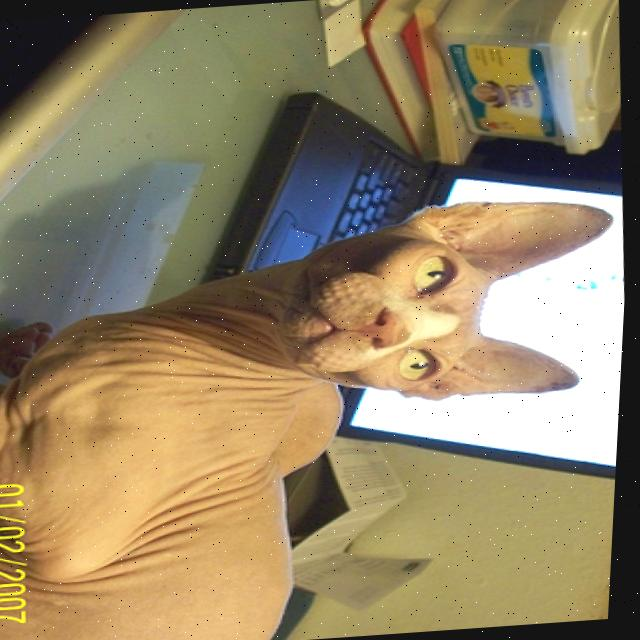Sphynx: (0, 188, 632, 640)
